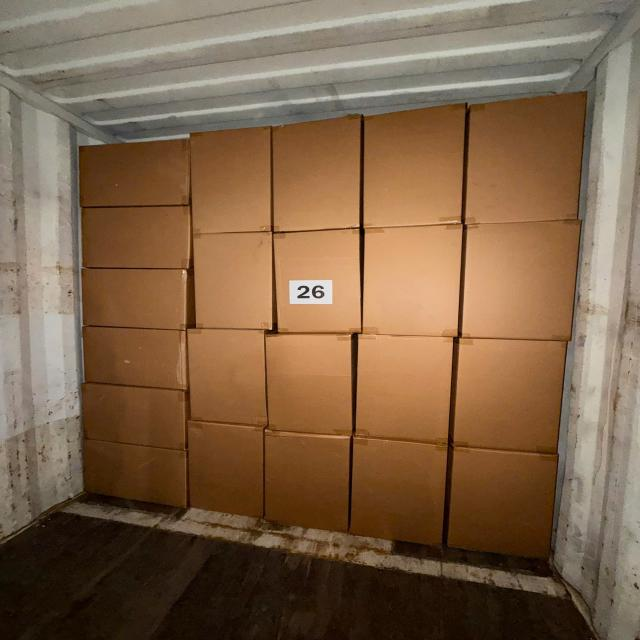Carton: (467, 90, 579, 227), (460, 220, 577, 340), (455, 337, 568, 452), (449, 446, 559, 562), (364, 103, 464, 226), (359, 225, 462, 338), (355, 333, 449, 445), (272, 114, 361, 230), (352, 436, 442, 546), (271, 232, 364, 334), (263, 333, 352, 436), (264, 426, 350, 532), (190, 126, 273, 232), (191, 231, 275, 330), (187, 328, 270, 426), (186, 419, 264, 521), (78, 437, 187, 508), (78, 138, 191, 205), (78, 382, 188, 450), (80, 324, 188, 391), (80, 207, 191, 270), (80, 267, 189, 329)
